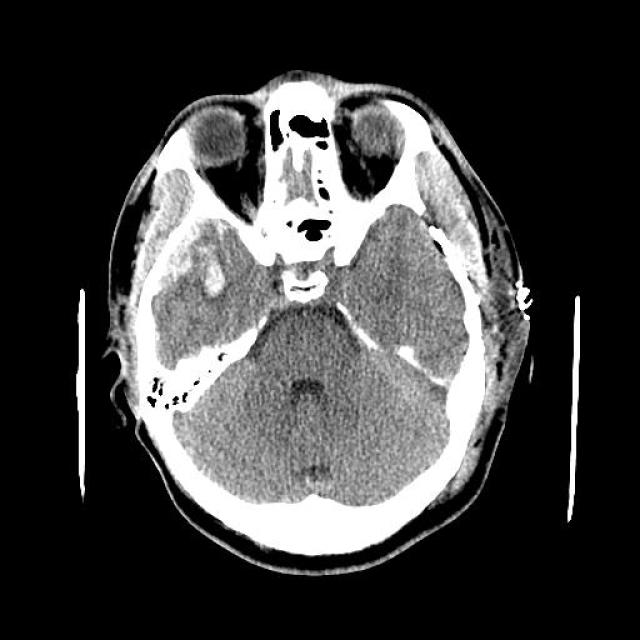Intraparenchymal: (194, 232, 248, 312)
Subdural: (135, 214, 200, 295)
